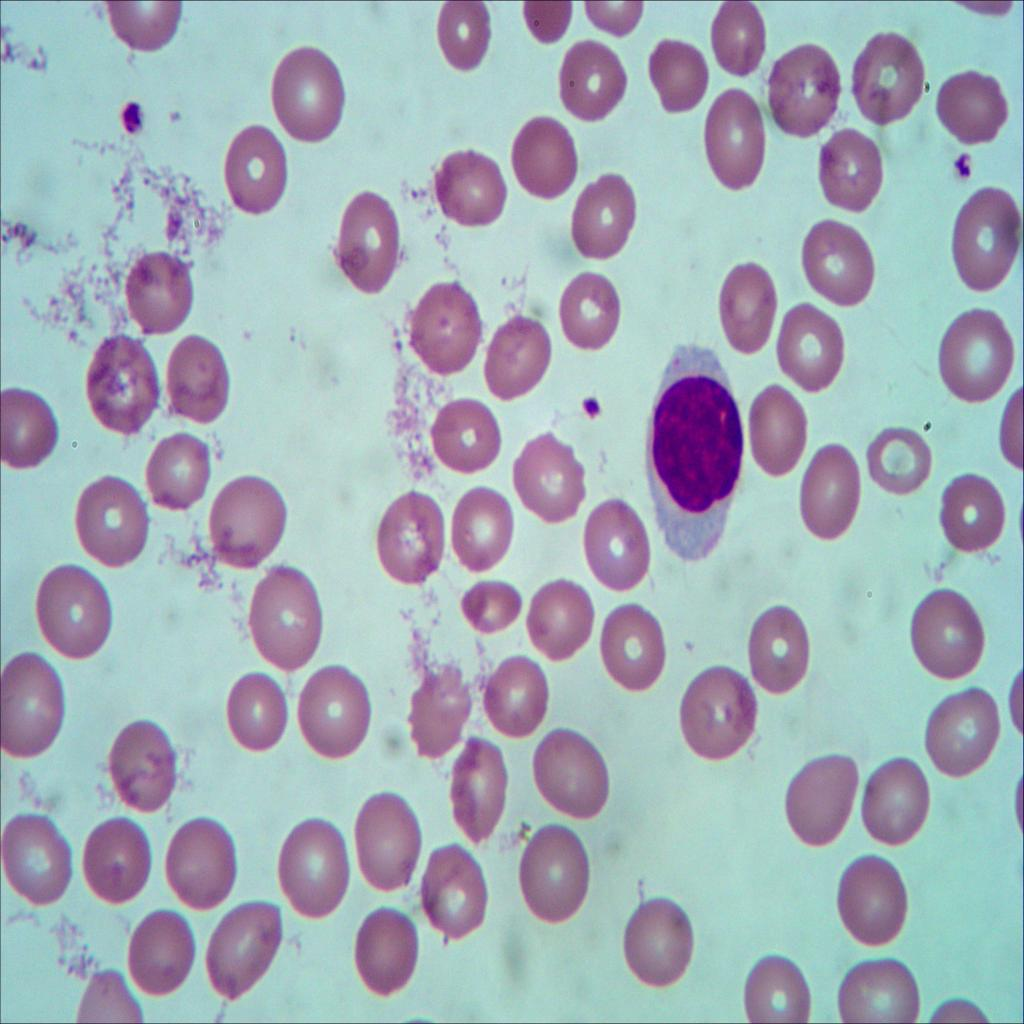Eritrosit: (239, 564, 336, 680), (28, 555, 126, 668), (197, 886, 284, 1010), (195, 481, 308, 574), (678, 654, 766, 772), (898, 577, 992, 685), (756, 32, 849, 141), (500, 422, 586, 536), (814, 118, 900, 232), (742, 598, 818, 723), (914, 687, 1007, 788), (932, 306, 1023, 409), (528, 718, 616, 823), (218, 653, 294, 774), (82, 327, 168, 433), (406, 282, 492, 387), (520, 826, 605, 932), (0, 804, 79, 918), (792, 433, 872, 545), (697, 78, 769, 202), (0, 642, 69, 770), (155, 814, 247, 910), (778, 739, 854, 855), (116, 243, 207, 339), (521, 571, 599, 683), (270, 817, 350, 926), (934, 462, 1016, 568), (564, 156, 640, 266), (396, 664, 479, 762), (156, 331, 238, 430), (222, 114, 295, 225), (502, 111, 584, 209), (435, 130, 506, 243), (925, 58, 1013, 148), (68, 484, 160, 570), (546, 29, 628, 125), (270, 44, 347, 146), (76, 816, 161, 908), (444, 476, 526, 571), (798, 214, 880, 309), (447, 732, 513, 850), (766, 308, 854, 396), (427, 384, 511, 476), (473, 654, 556, 746), (338, 183, 404, 298), (586, 493, 656, 601), (103, 714, 182, 809), (295, 668, 375, 761), (600, 601, 674, 701), (623, 904, 700, 1000), (417, 844, 490, 945), (949, 189, 1024, 287), (833, 945, 924, 1024), (354, 793, 423, 896), (851, 35, 923, 133), (836, 852, 909, 948), (858, 754, 931, 848), (426, 0, 502, 90), (710, 256, 778, 356), (854, 420, 942, 497), (141, 428, 217, 517), (551, 264, 623, 356), (122, 909, 195, 999), (380, 494, 447, 592), (744, 374, 808, 474), (480, 319, 559, 398), (355, 912, 422, 1005), (648, 27, 714, 121), (744, 943, 820, 1024), (0, 387, 64, 474), (450, 566, 524, 641), (702, 0, 770, 81)
Limfosit: (641, 346, 744, 558)
Platelet: (116, 92, 154, 138), (950, 141, 979, 189), (581, 392, 610, 431)
